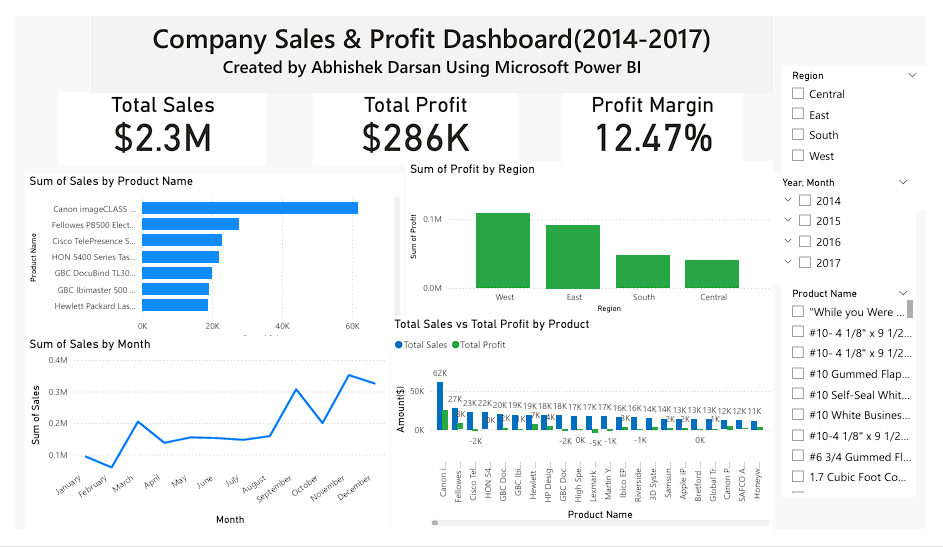

The dashboard page shown, as its layout file describes it:
{"tool":"powerbi","page":{"name":"Page 1","canvas":[1280,720],"ordinal":0},"visuals":[{"type":"card","title":"Total Sales","fields":{"Values":["Sample - Superstore.Total Sales"]},"box":[63.1,107,289.5,101.5],"z":0},{"type":"card","title":"Total Profit","fields":{"Values":["Sample - Superstore.Total Profit"]},"box":[418.5,107,288.2,101.5],"z":1000},{"type":"card","title":"Profit Margin","fields":{"Values":["Sample - Superstore.Profit Margin"]},"box":[769.8,107,252.5,101.5],"z":2000},{"type":"clusteredBarChart","fields":{"Category":["Sample - Superstore.Product Name"],"Y":["Sum(Sample - Superstore.Sales)"]},"box":[15.1,220.9,531,242.9],"z":3000},{"type":"clusteredColumnChart","fields":{"Y":["Sum(Sample - Superstore.Profit)"],"Category":["Sample - Superstore.Region"]},"box":[549.7,203.7,515.3,218.4],"z":4000},{"type":"clusteredColumnChart","title":"Total Sales vs Total Profit by Product","fields":{"Category":["Sample - Superstore.Product Name"],"Y":["Sample - Superstore.Total Sales","Sample - Superstore.Total Profit"]},"box":[527.6,422.1,537.4,298.2],"z":5000},{"type":"lineChart","fields":{"Category":["Sample - Superstore.Order Date.Variation.Date Hierarchy.Month"],"Y":["Sum(Sample - Superstore.Sales)"]},"box":[15.1,450.1,510.5,270.3],"z":6000},{"type":"slicer","fields":{"Values":["Sample - Superstore.Region"]},"box":[1078.6,71.4,201.7,200.3],"z":7000},{"type":"slicer","fields":{"Values":["Sample - Superstore.Order Date.Variation.Date Hierarchy.Year","Sample - Superstore.Order Date.Variation.Date Hierarchy.Month"]},"box":[1064.8,220.9,201.7,156.4],"z":8000},{"type":"slicer","fields":{"Values":["Sample - Superstore.Product Name"]},"box":[1078.6,377.4,188,297.8],"z":9000},{"type":"textbox","box":[107,0,957.8,107],"z":9001}]}

Visuals, with their boxes on the page's 1280x720 design canvas (x1, y1, x2, y2). These are canvas units, not pixel positions in the 943x547 screenshot, which may show the page scaled, cropped or inside an application window:
"Total Sales" card: bbox=(63, 107, 353, 208)
"Total Profit" card: bbox=(418, 107, 707, 208)
"Profit Margin" card: bbox=(770, 107, 1022, 208)
clusteredBarChart - Sample - Superstore.Product Name x Sum(Sample - Superstore.Sales): bbox=(15, 221, 546, 464)
clusteredColumnChart - Sum(Sample - Superstore.Profit) x Sample - Superstore.Region: bbox=(550, 204, 1065, 422)
"Total Sales vs Total Profit by Product" clusteredColumnChart: bbox=(528, 422, 1065, 720)
lineChart - Sample - Superstore.Order Date.Variation.Date Hierarchy.Month x Sum(Sample - Superstore.Sales): bbox=(15, 450, 526, 720)
slicer - Sample - Superstore.Region: bbox=(1079, 71, 1280, 272)
slicer - Sample - Superstore.Order Date.Variation.Date Hierarchy.Year x Sample - Superstore.Order Date.Variation.Date Hierarchy.Month: bbox=(1065, 221, 1266, 377)
slicer - Sample - Superstore.Product Name: bbox=(1079, 377, 1267, 675)
textbox: bbox=(107, 0, 1065, 107)
